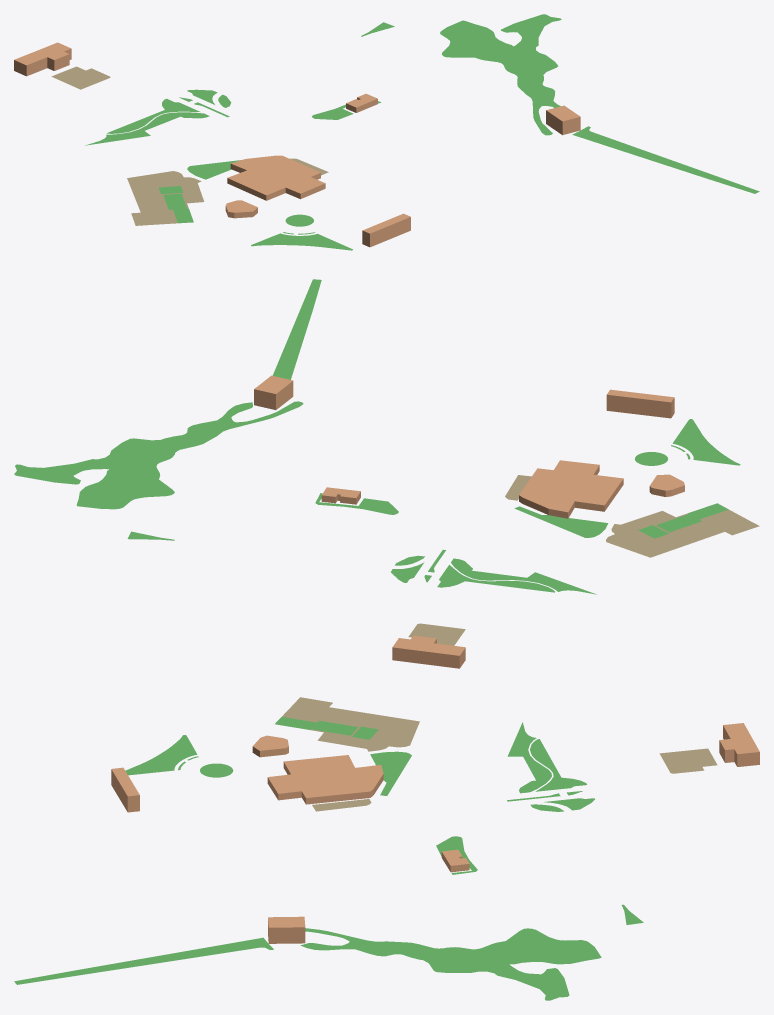
Rendered from map.glb.
3 renders of one model, top to bottom at view 1: azimuth 30°, elevation 25°; view 2: azimuth 150°, elevation 25°; view 3: azimuth 270°, elevation 25°, orthographic. The views are drawn at different scales.
Visible parts, largest first — view 1: shp-layer-1-surfaces, shp-layer-3-surfaces, shp-layer-0-surfaces, osm-building-walls; view 2: shp-layer-1-surfaces, shp-layer-3-surfaces, shp-layer-0-surfaces, osm-building-walls; view 3: shp-layer-1-surfaces, shp-layer-3-surfaces, shp-layer-0-surfaces, osm-building-walls.
Part boxes in pixels (x1,y1,x2,y2): shp-layer-1-surfaces: [85, 14, 759, 250]; shp-layer-3-surfaces: [14, 42, 580, 233]; shp-layer-0-surfaces: [51, 66, 328, 225]; osm-building-walls: [14, 48, 580, 247]; shp-layer-1-surfaces: [14, 279, 740, 594]; shp-layer-3-surfaces: [254, 375, 684, 655]; shp-layer-0-surfaces: [408, 475, 759, 645]; osm-building-walls: [254, 381, 684, 668]; shp-layer-1-surfaces: [14, 717, 643, 1000]; shp-layer-3-surfaces: [111, 723, 759, 927]; shp-layer-0-surfaces: [282, 697, 717, 811]; osm-building-walls: [111, 725, 759, 943].
Size of what is drawn, in the model's own units: 606 by 15 by 629.
